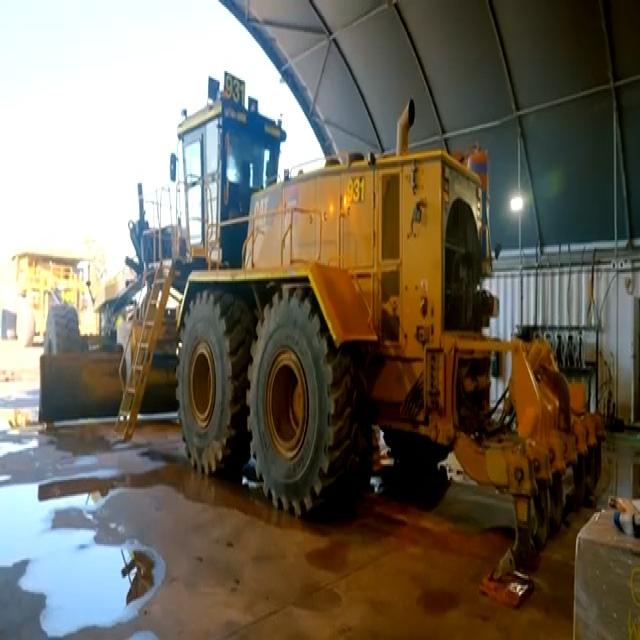buldozerpayloadergrader: (42, 278, 357, 505)
